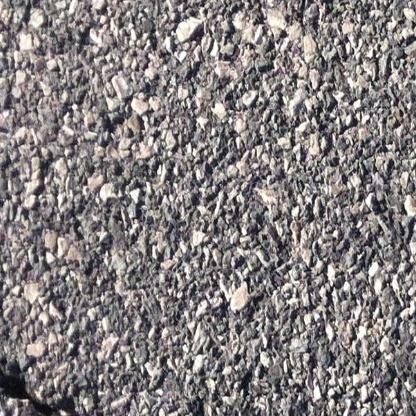Cracks: (0, 355, 103, 416), (147, 405, 219, 416)
